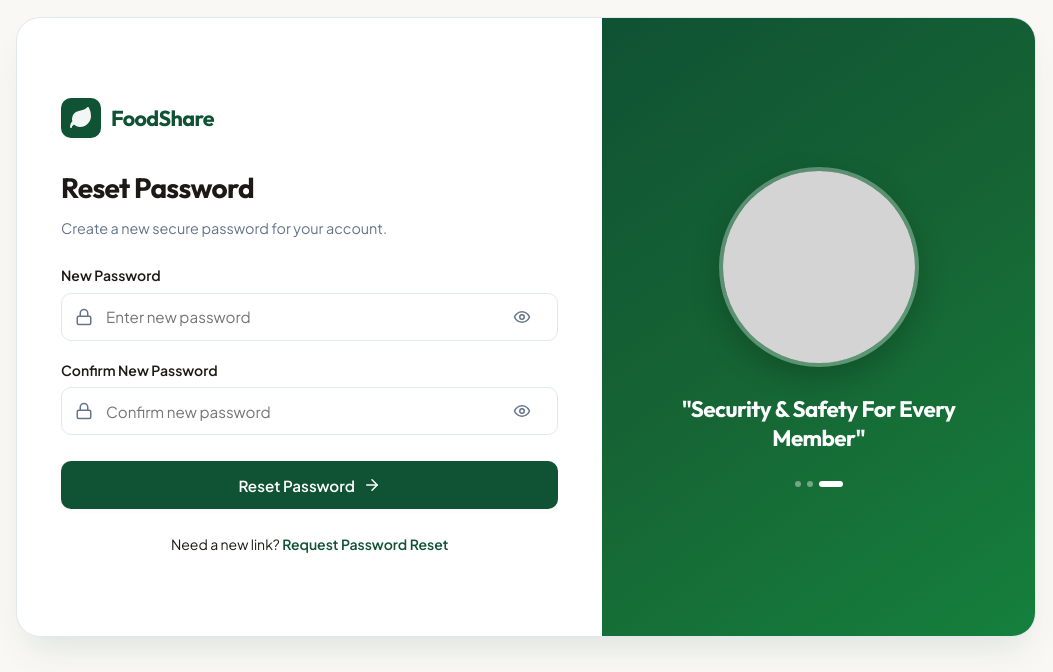
Test: ResetPasswordPage Component › handles backend invalid/expired token error
Type "ValidPass123!" into the password field labelled "New Password" at (310, 317), box [61,293,558,341]
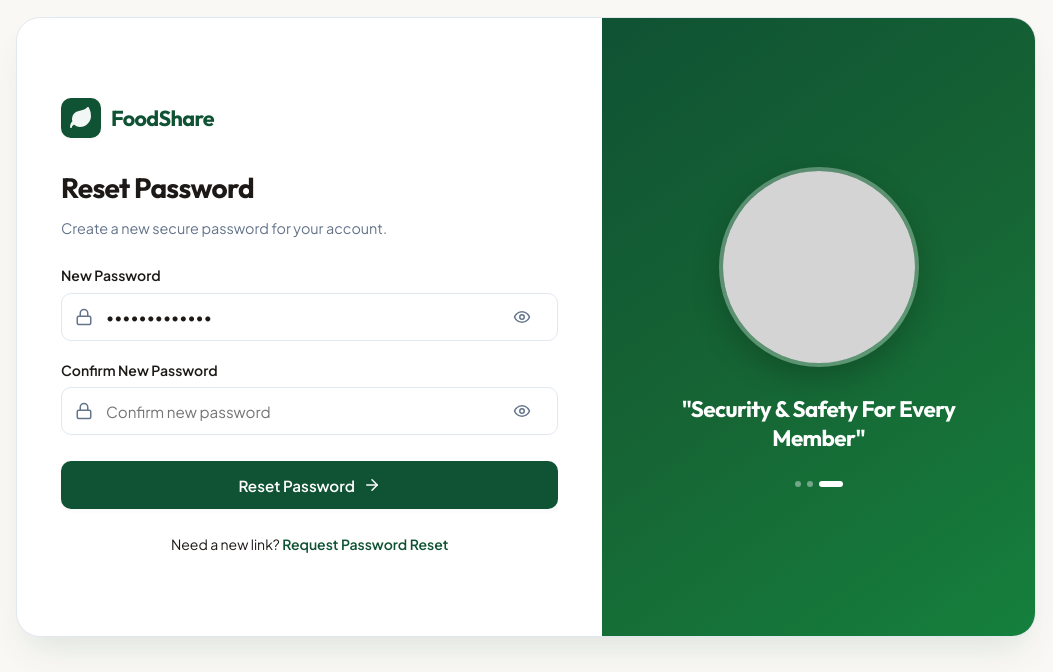
Type "ValidPass123!" into the password field labelled "Confirm New Password" at (310, 411), box [61,387,558,435]
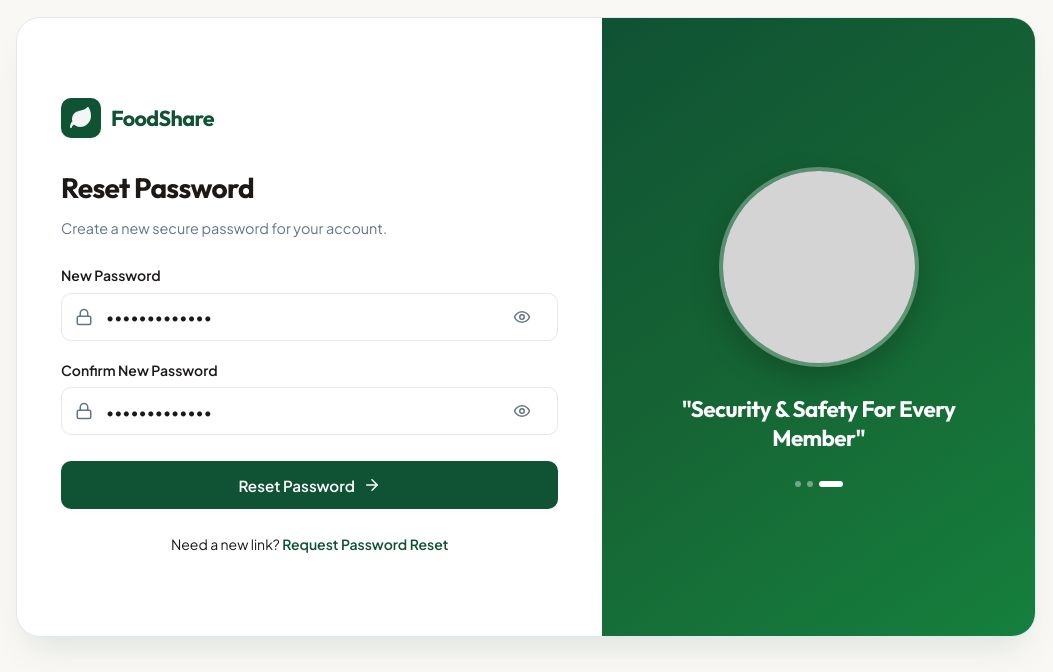
Click the button "Reset Password" at (310, 485), box [61,461,558,509]
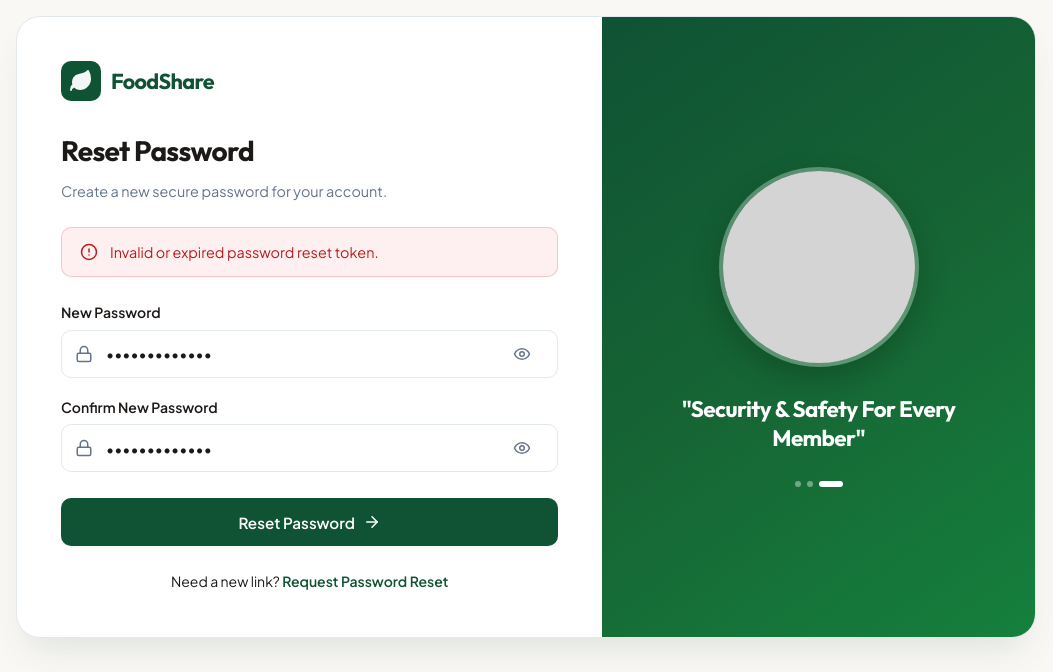
Check: the text "Invalid or expired password reset token." is shown, box [110,242,378,262]
